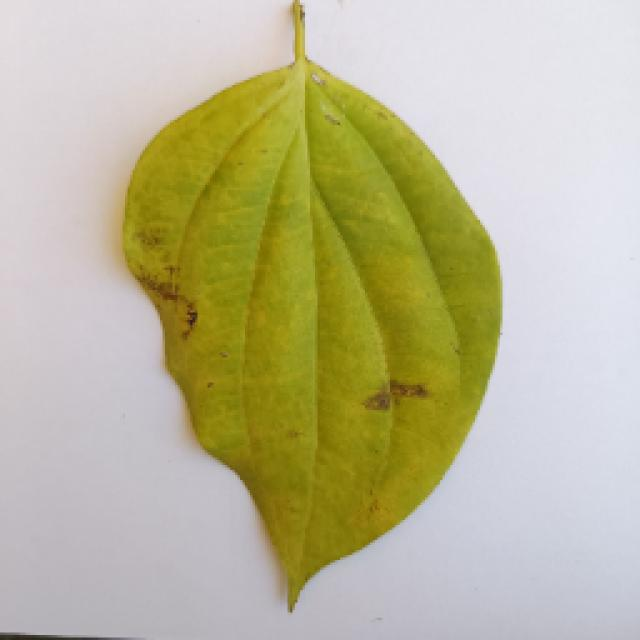slow-decline: (73, 12, 515, 610)
